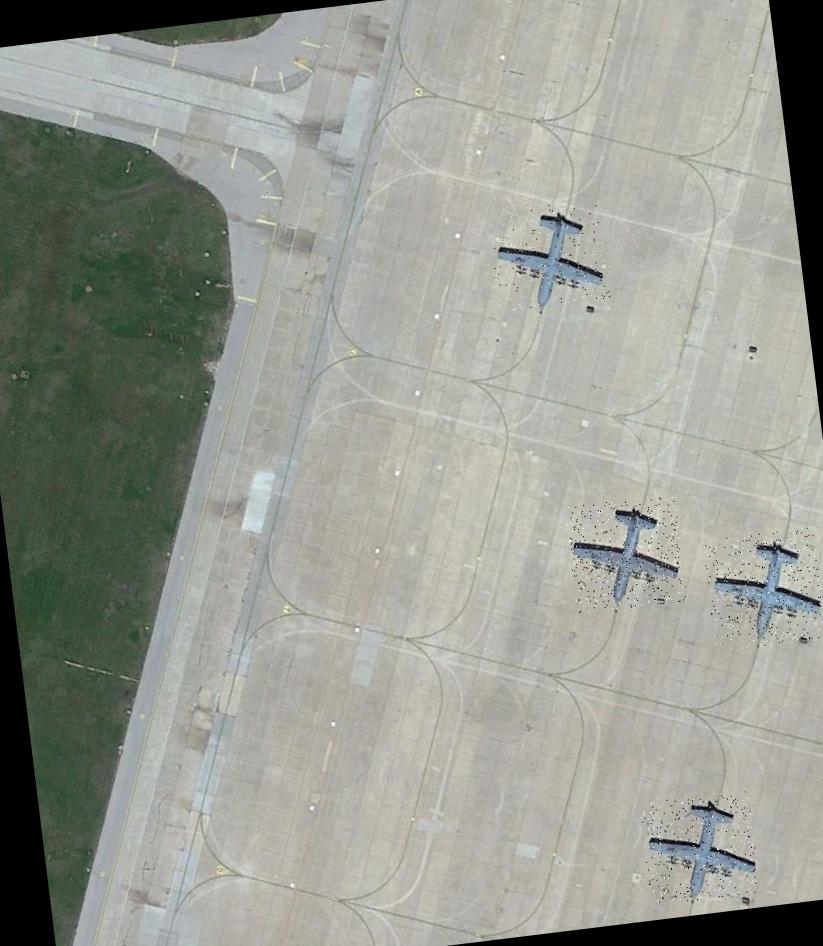A2: (701, 526, 823, 651), (564, 493, 686, 614), (638, 790, 760, 906), (487, 198, 609, 311)
